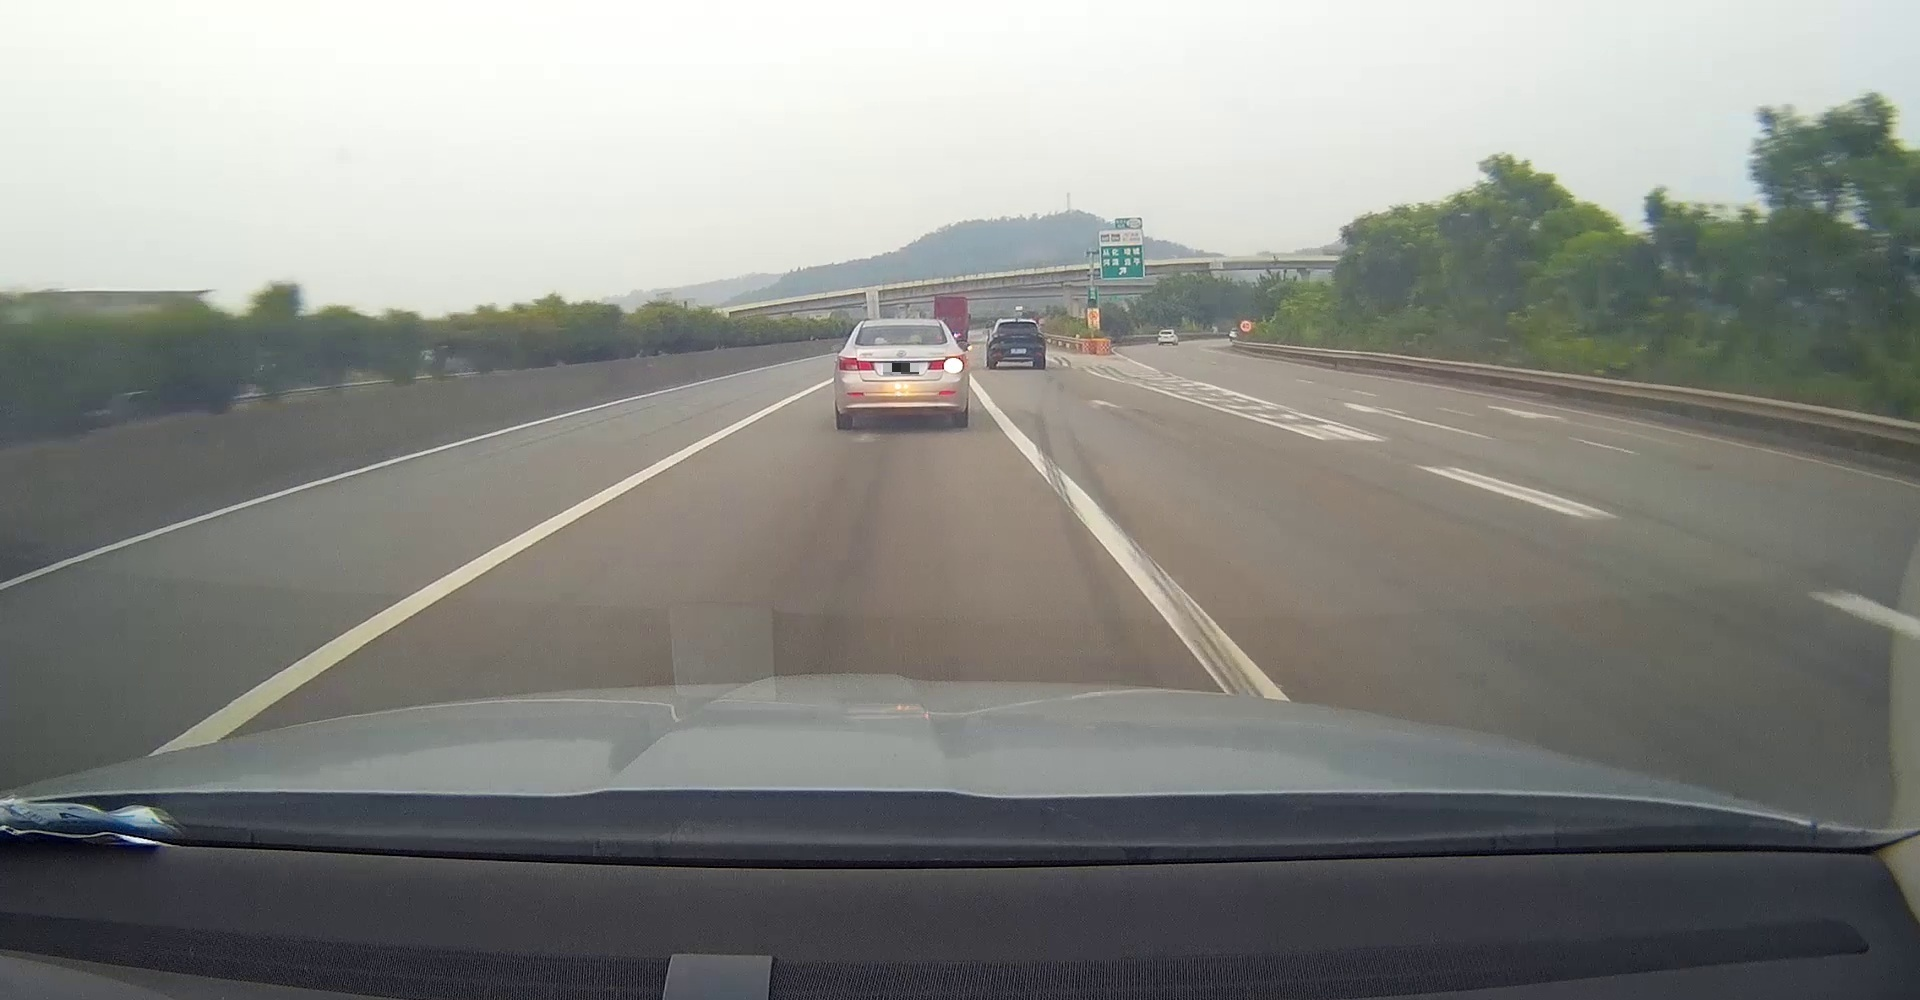L_light: (838, 357, 874, 372), (990, 332, 1004, 340)
R_light: (928, 357, 964, 372), (1032, 332, 1046, 341)
T_light: (891, 339, 910, 344), (1012, 321, 1022, 325)
day-no: (987, 319, 1046, 369)
day-right: (834, 319, 970, 429)
plate_1: (883, 363, 919, 374)
